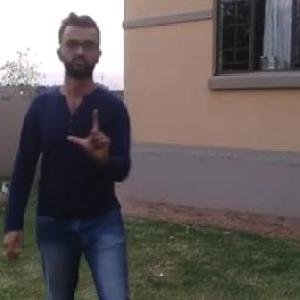land_hand: (61, 105, 117, 162)
